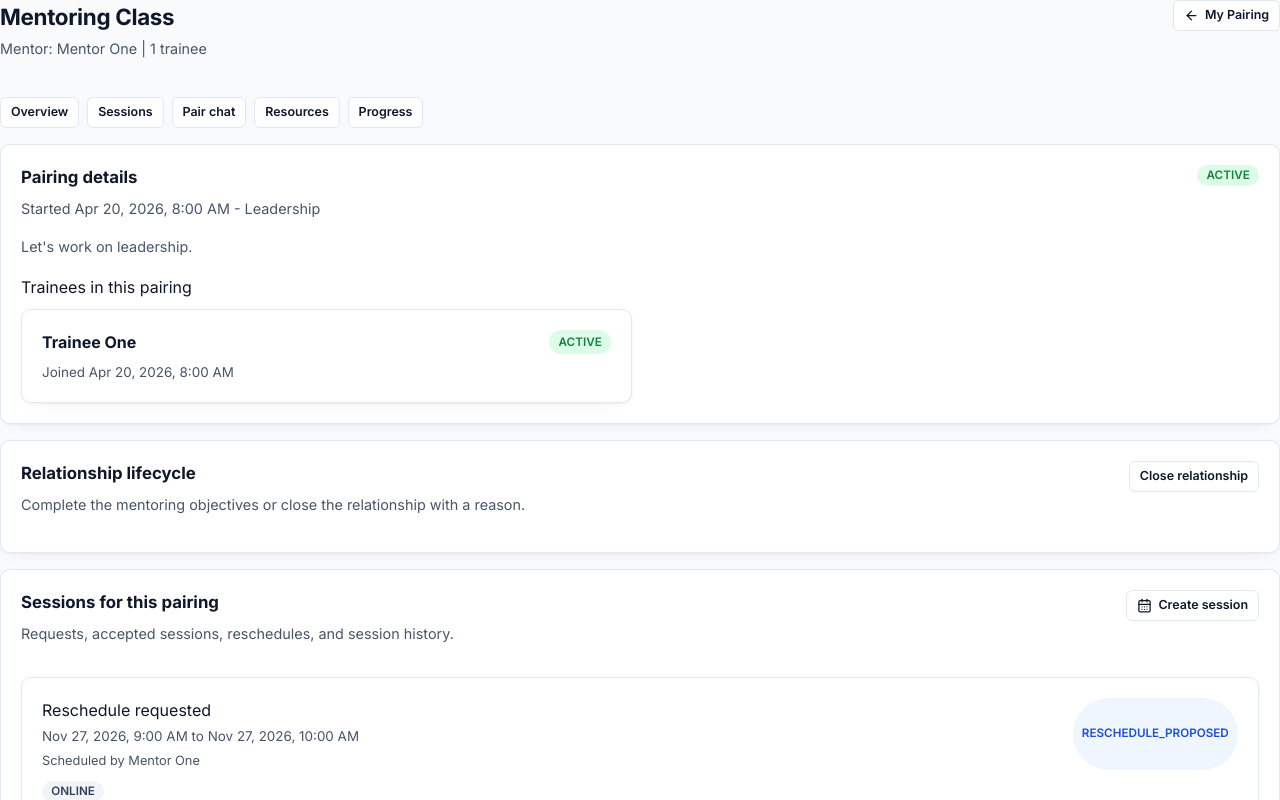
Test: MentoringPairingDetailPage › lets mentors accept or reject a reschedule proposal and shows confirmed sessions
Click the tab "Sessions".
click(125, 113)  # box x1=87 y1=97 x2=164 y2=128
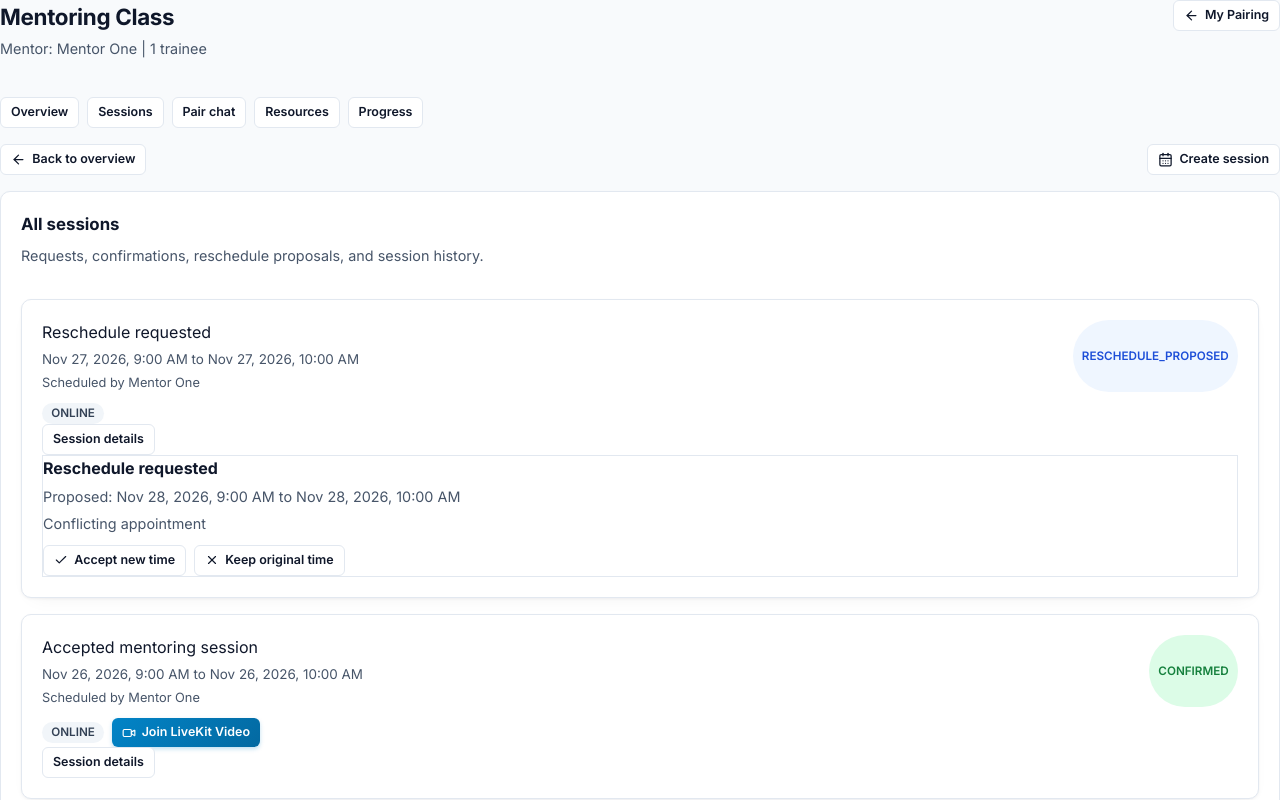
Check: the heading "Accepted mentoring session" is shown, box x1=42 y1=637 x2=258 y2=657
Check: the text "Conflicting appointment" is shown, box x1=43 y1=515 x2=206 y2=532
Click the button "Accept new time".
click(114, 560)  # box x1=43 y1=545 x2=186 y2=576
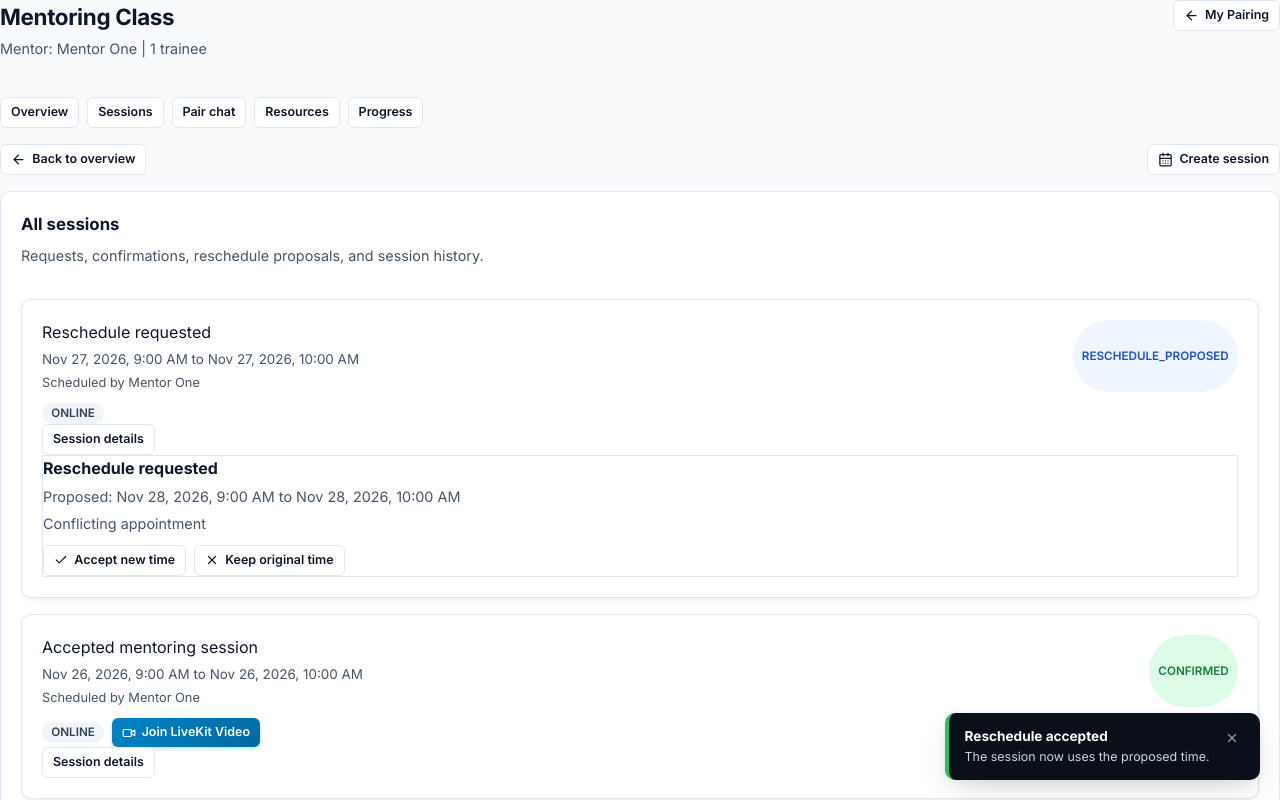
Check: the button "Keep original time" is shown, box x1=194 y1=545 x2=345 y2=576
Check: the text "Reschedule accepted" is shown, box x1=965 y1=728 x2=1108 y2=744
